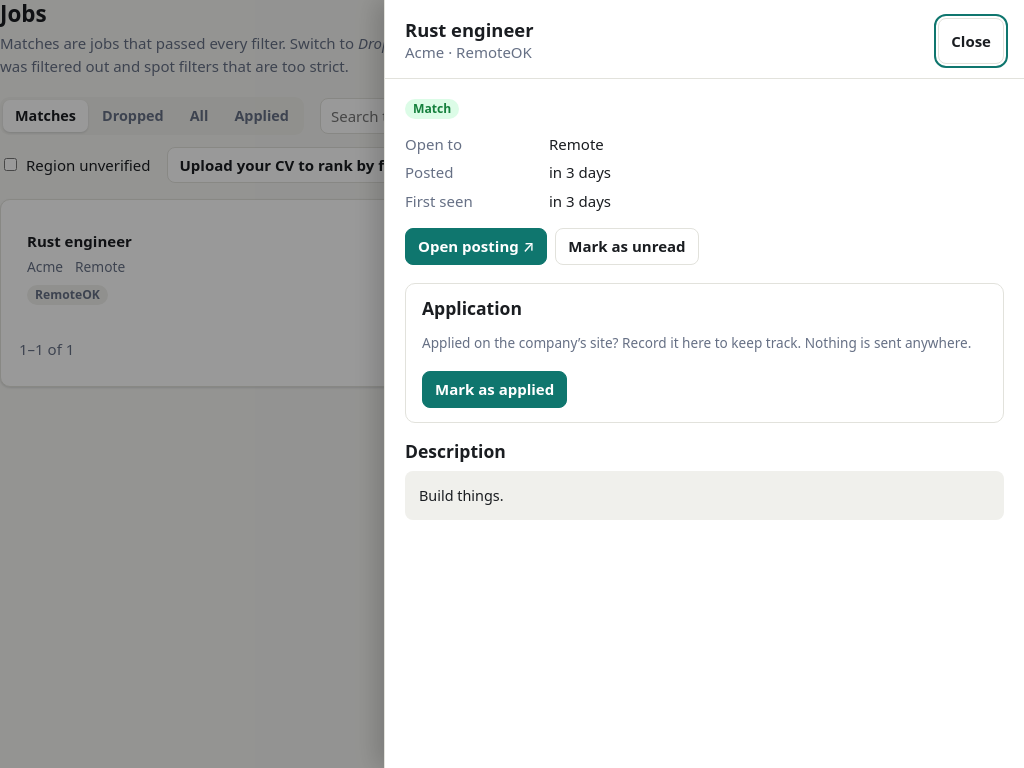
Test: Job drawer: viewed › counts as viewing the job, and can be undone
Click the button "Mark as unread" at [627, 246], box [555,228,699,265]
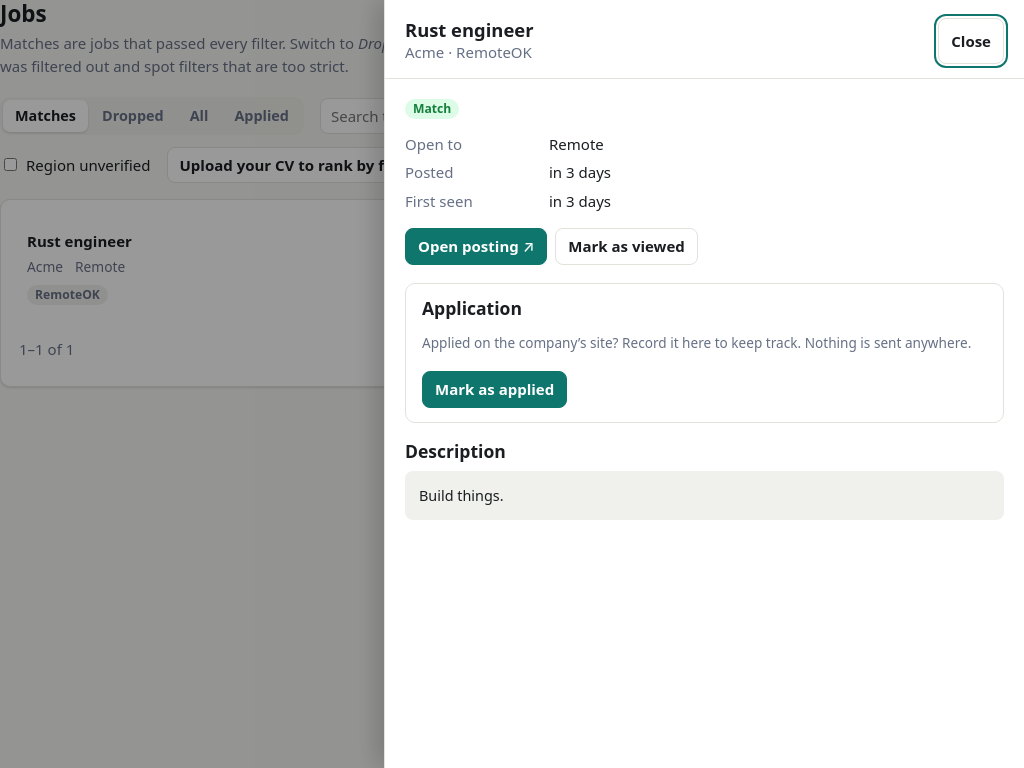
Click the button "Mark as viewed" at [627, 246], box [555,228,698,265]
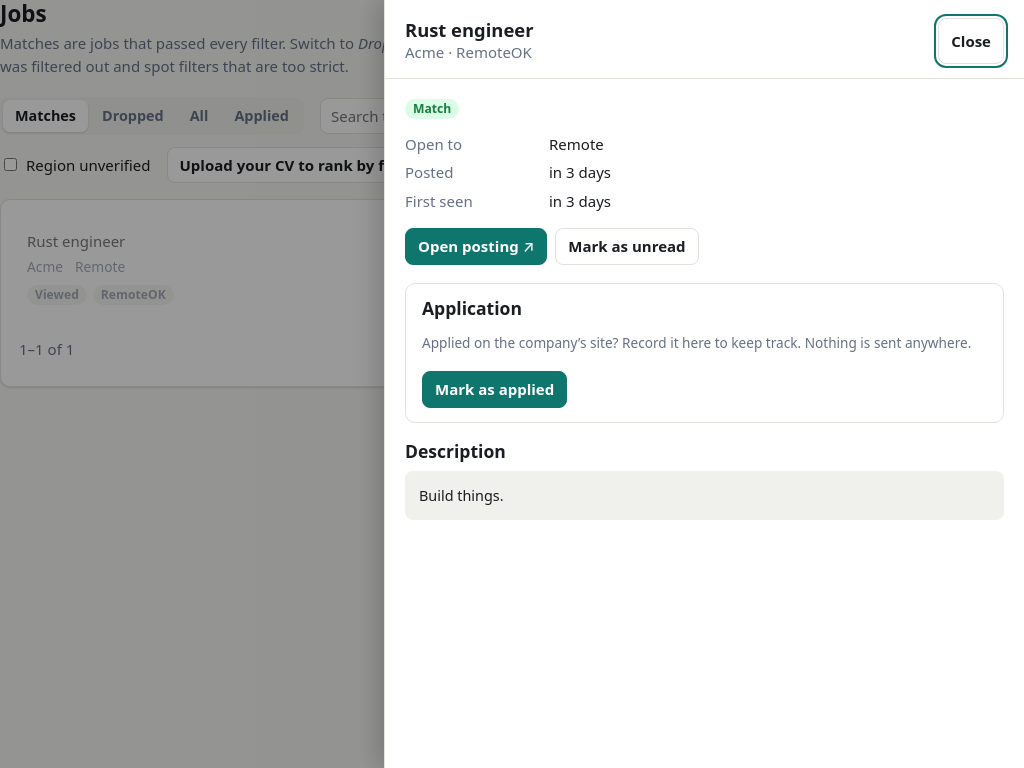
Expected: the button "Mark as unread" is shown, [555,228,699,265]
